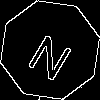N: (25, 25, 80, 83)
